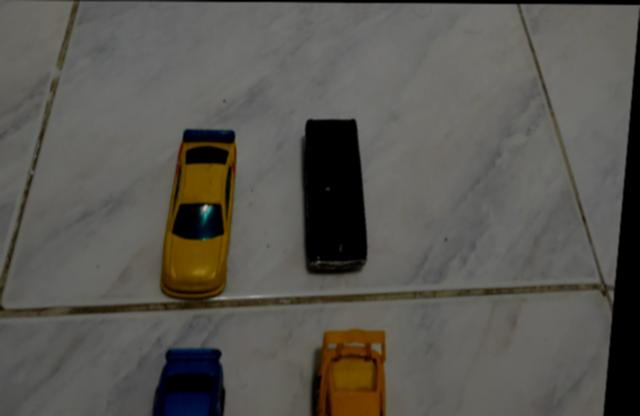01_FORD: (305, 119, 374, 275)
02_OZSOME: (165, 129, 240, 301)
04_MERZEDES: (161, 348, 233, 416)
07_RHLTURBO: (320, 329, 394, 416)
